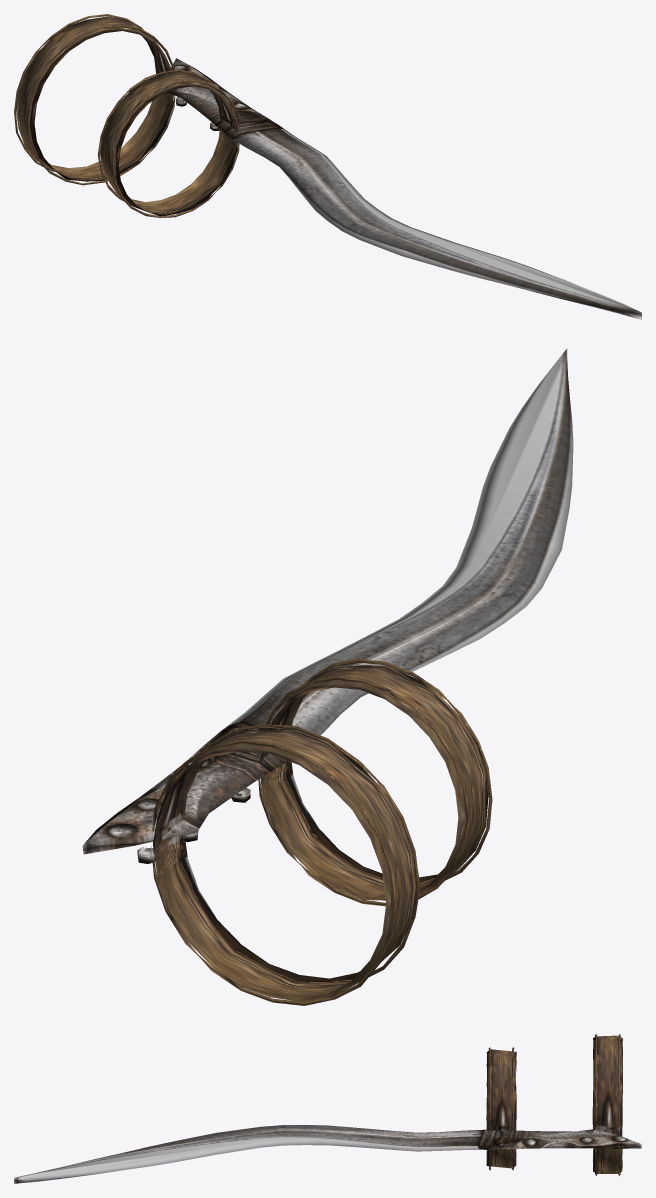
Rendered from mm6_natf_blade.glb.
The picture shows the model from 3 angles, top to bottom: view 1: azimuth 30°, elevation 25°; view 2: azimuth 150°, elevation 25°; view 3: azimuth 270°, elevation 25°; orthographic projection. The views are drawn at different scales.
Parts seen in each view (by area): view 1: ForearmBlade; view 2: ForearmBlade; view 3: ForearmBlade.
Boxes of the visible parts, box(x1,y1,x2,y2) form: ForearmBlade: box(14, 14, 641, 319); ForearmBlade: box(82, 348, 573, 1005); ForearmBlade: box(14, 1034, 641, 1183).
Bounding box in the file's own units: 0.2605 × 0.148 × 0.6504.
Materials: 1 (1 with a texture image).
